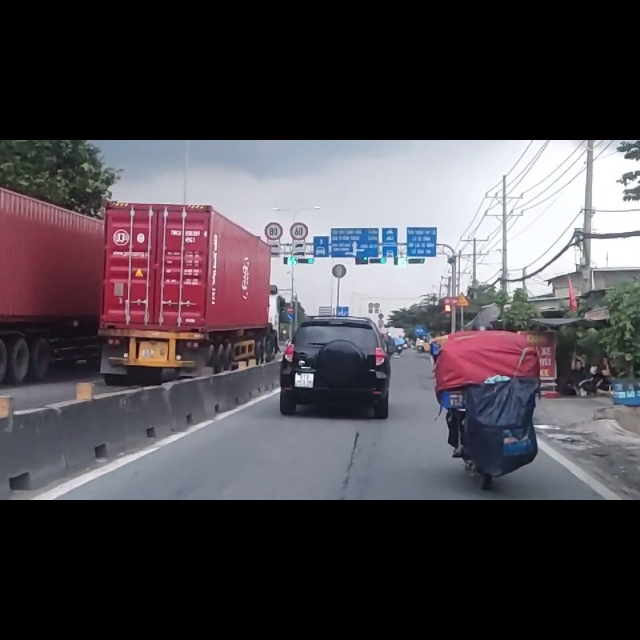bien_cam: (289, 143, 309, 181), (265, 146, 283, 178), (455, 270, 469, 295), (286, 295, 294, 308), (287, 308, 294, 322)
